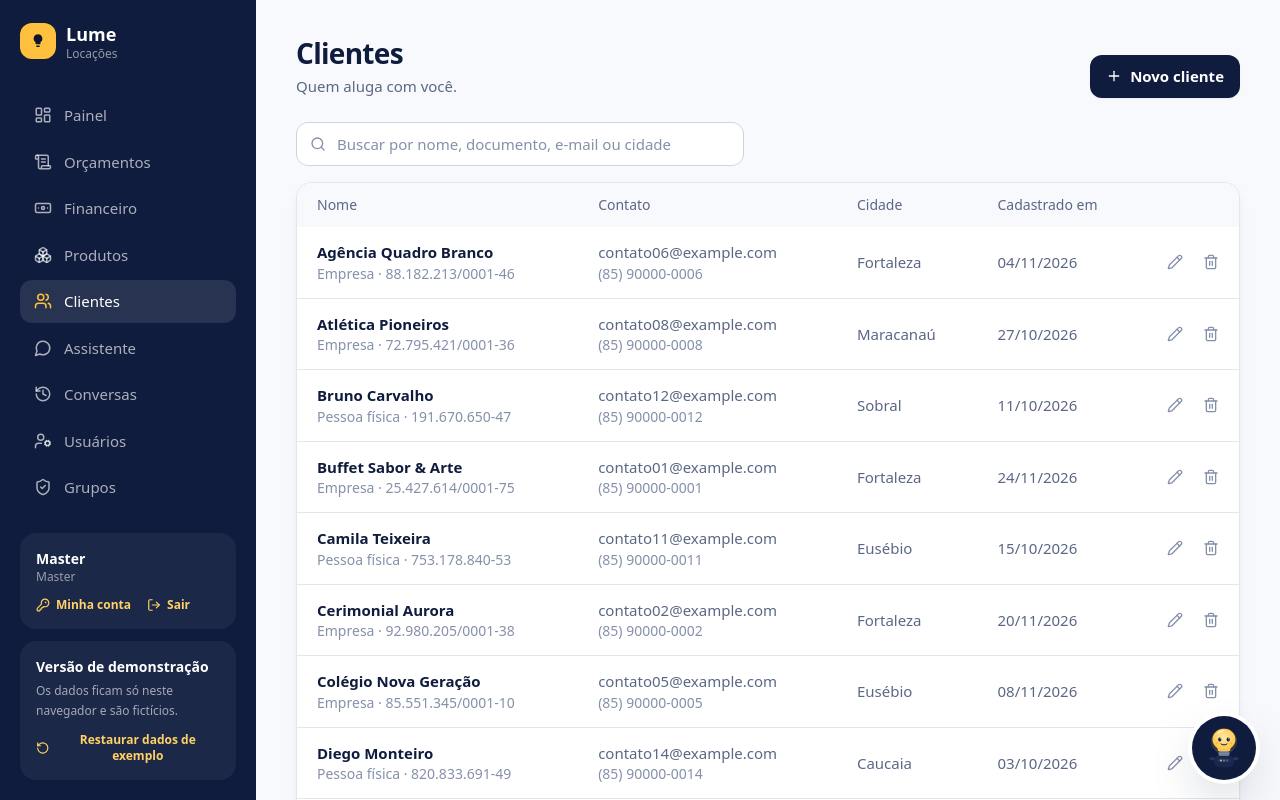
Test case: Clientes › lista, busca, cria e valida
expect the text "Buffet Sabor & Arte" is shown: met, box [317,456,462,476]
Step 1. Type "Buffet Sabor" into the field named "Buscar clientes" → (520, 144), box [296,122,744,166]
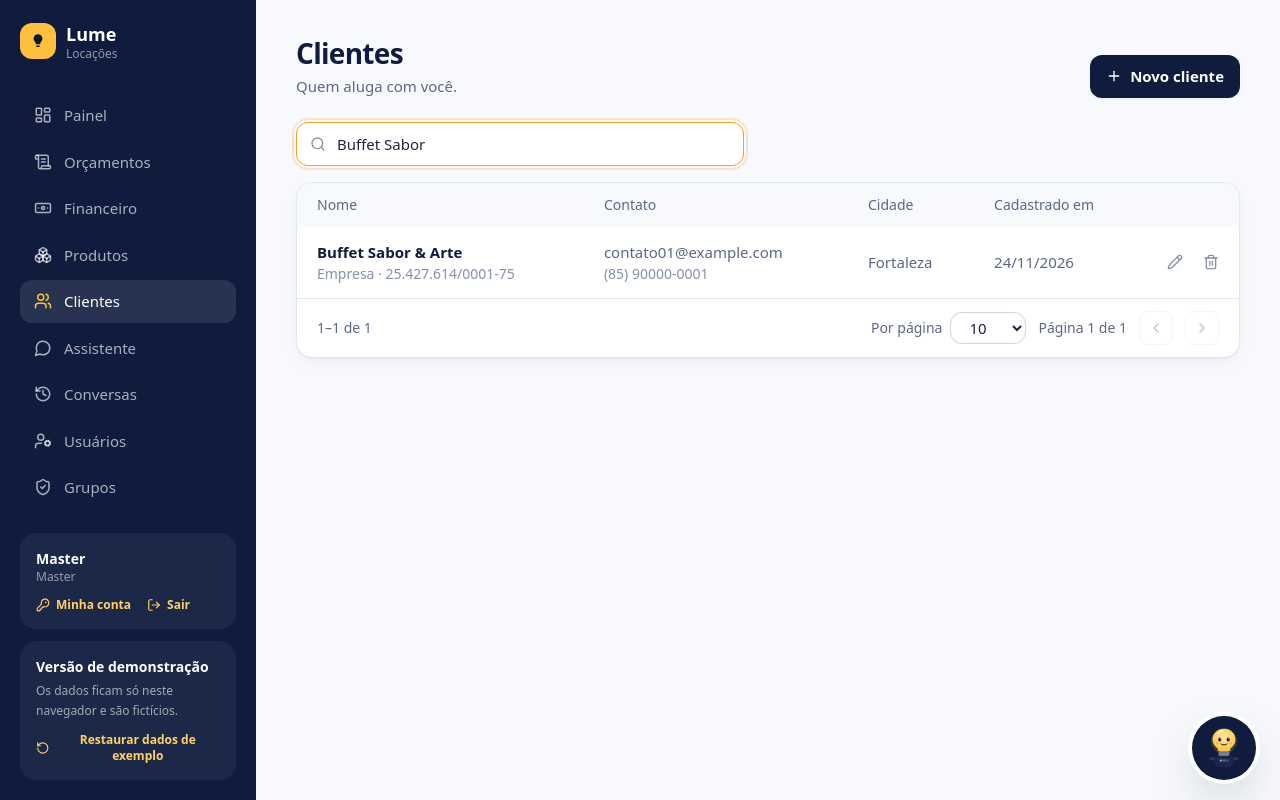
Step 2. Clear the field named "Buscar clientes" → (520, 144), box [296,122,744,166]
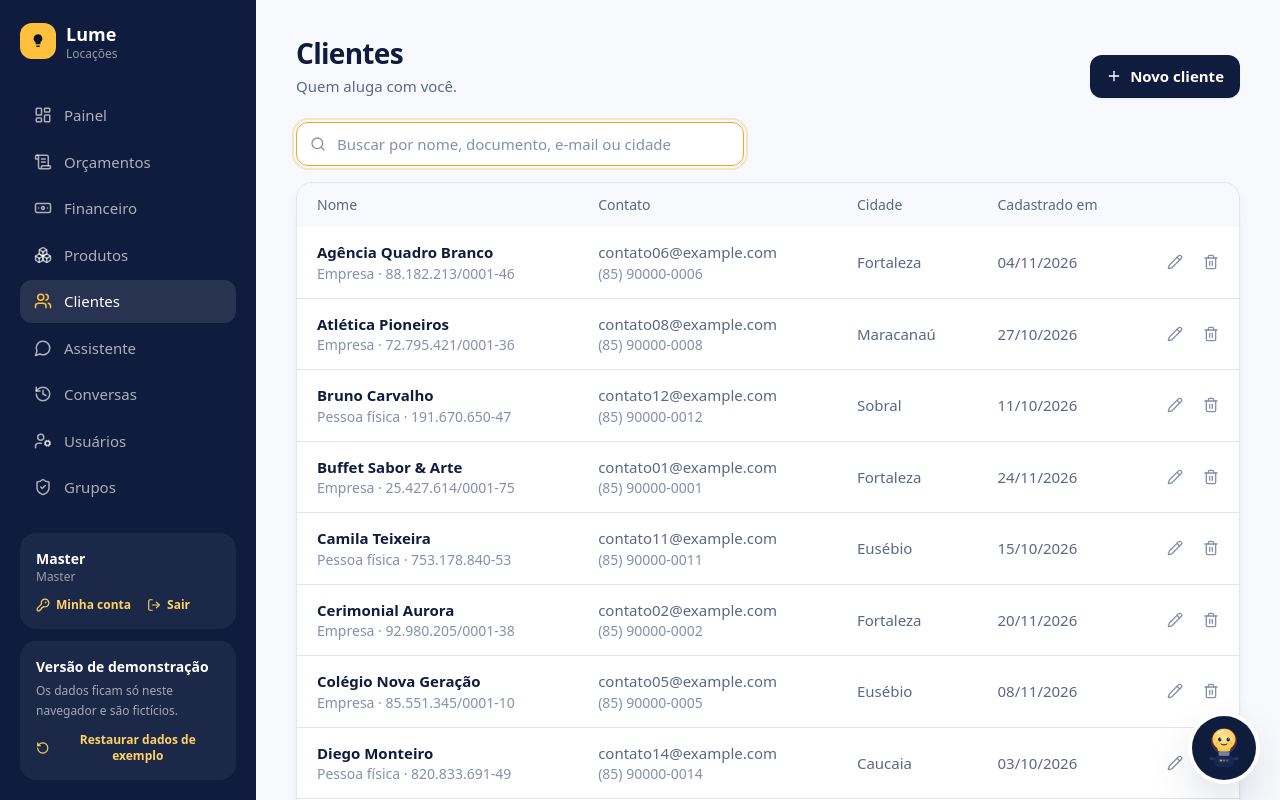
Step 3. Click the button "Novo cliente" → (1165, 76), box [1090,55,1240,98]
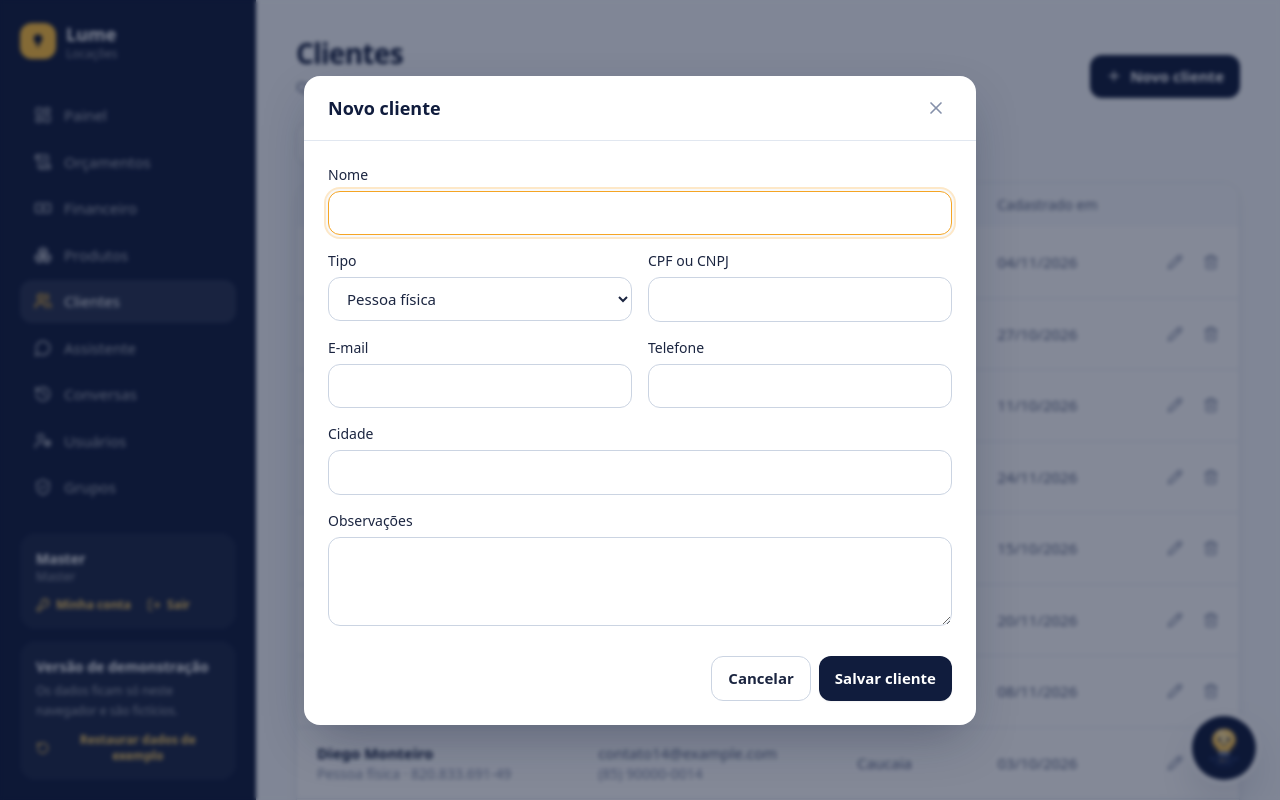
Step 4. Click the button "Salvar cliente" → (885, 678), box [819,656,952,700]
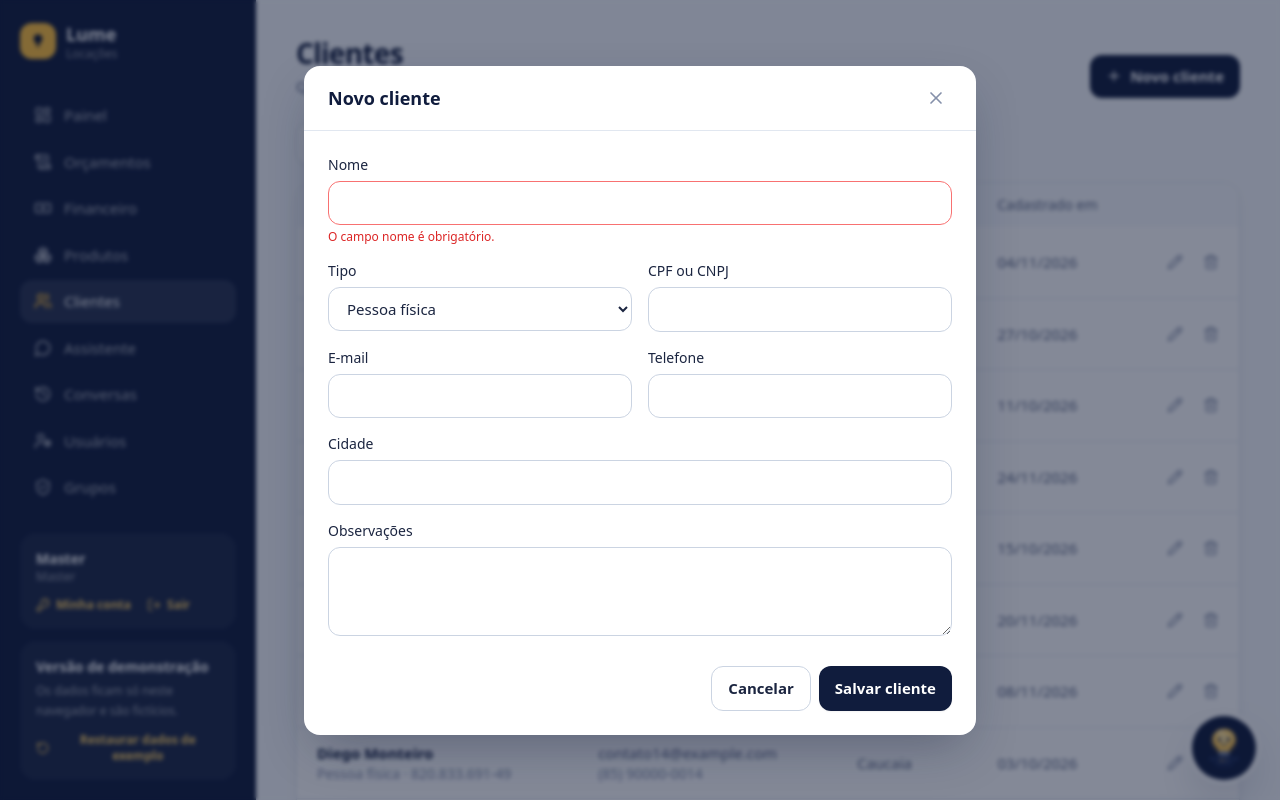
expect the text "O campo nome é obrigatório." is shown: met, box [328,228,495,245]
Step 5. Type "Zélia Teste" into the field labelled "Nome" → (640, 203), box [328,180,952,225]
Step 6. Click the button "Salvar cliente" → (885, 688), box [819,666,952,710]
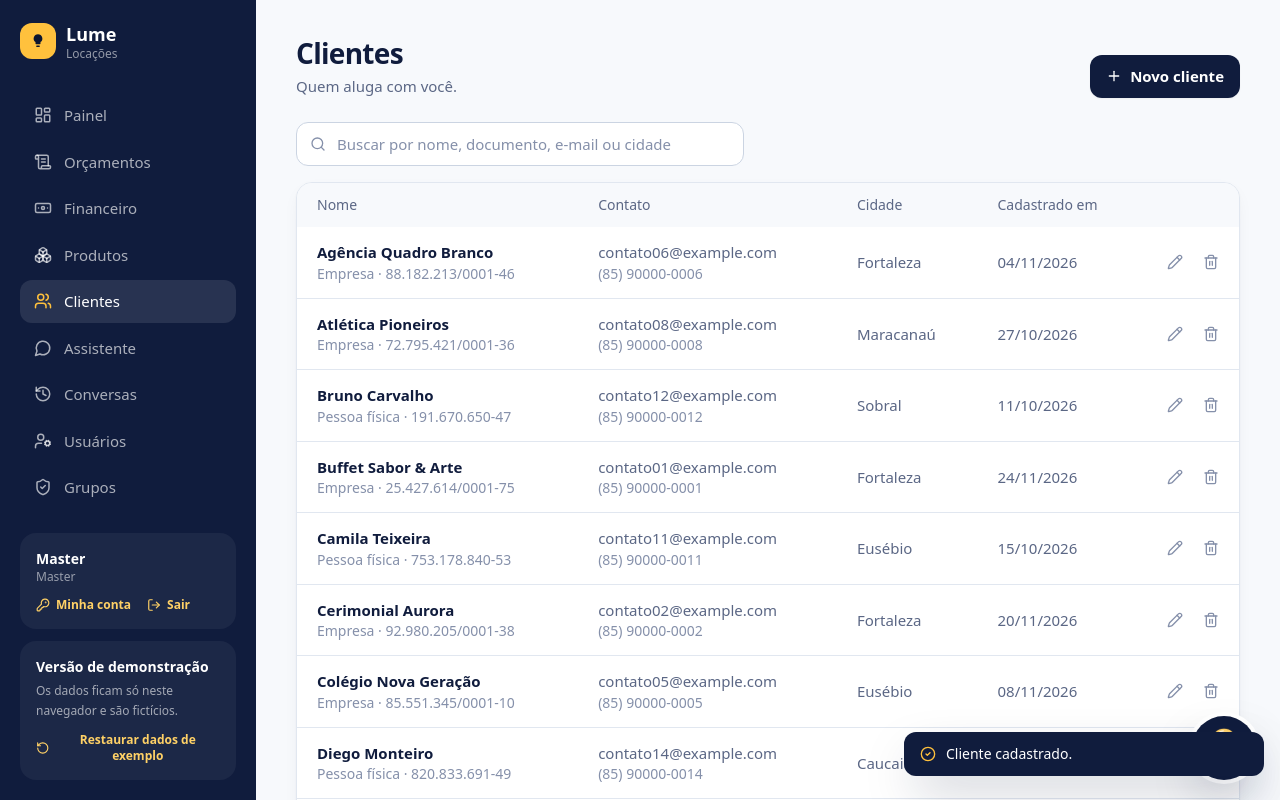
expect the text "Cliente cadastrado." is shown: met, box [904,732,1264,776]
Step 7. Type "Zélia" into the field named "Buscar clientes" → (520, 144), box [296,122,744,166]
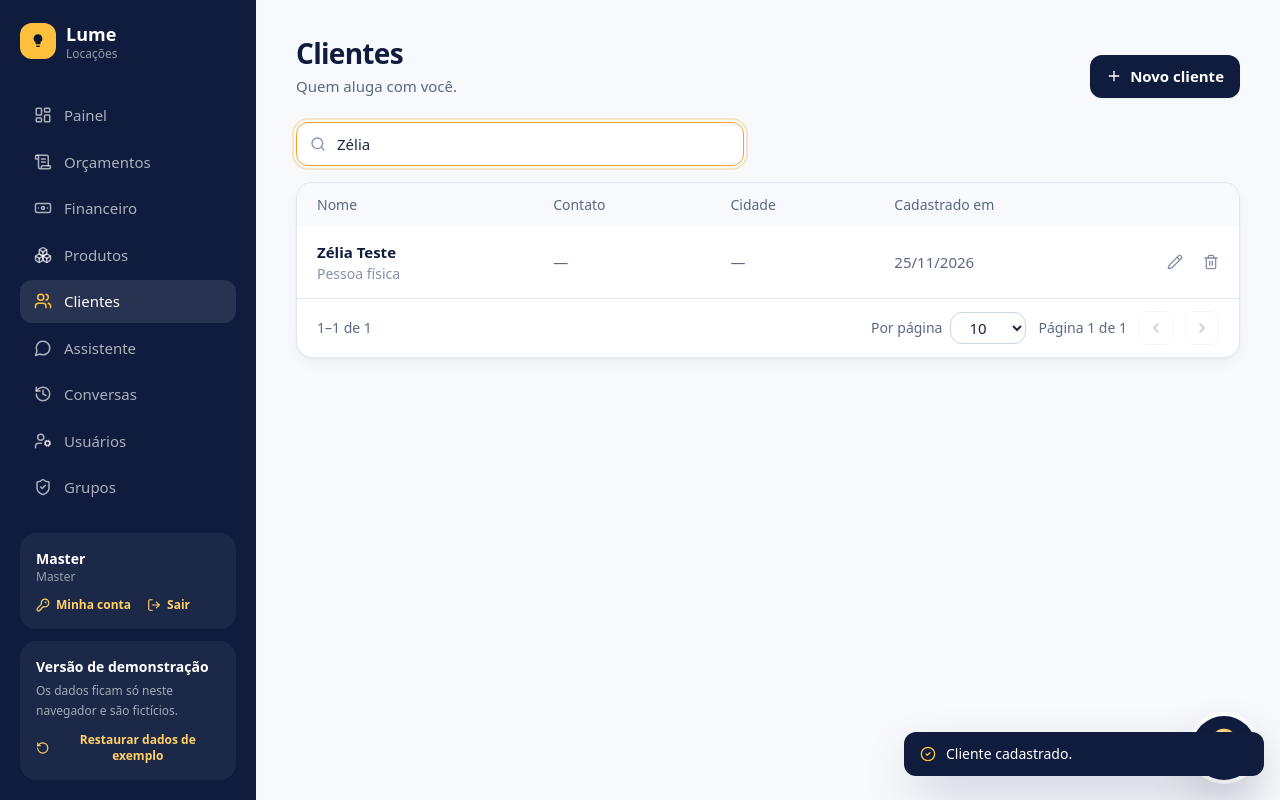
expect the text "Zélia Teste" is shown: met, box [317,242,396,262]
